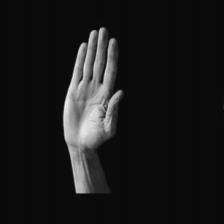five: (62, 24, 125, 165)
